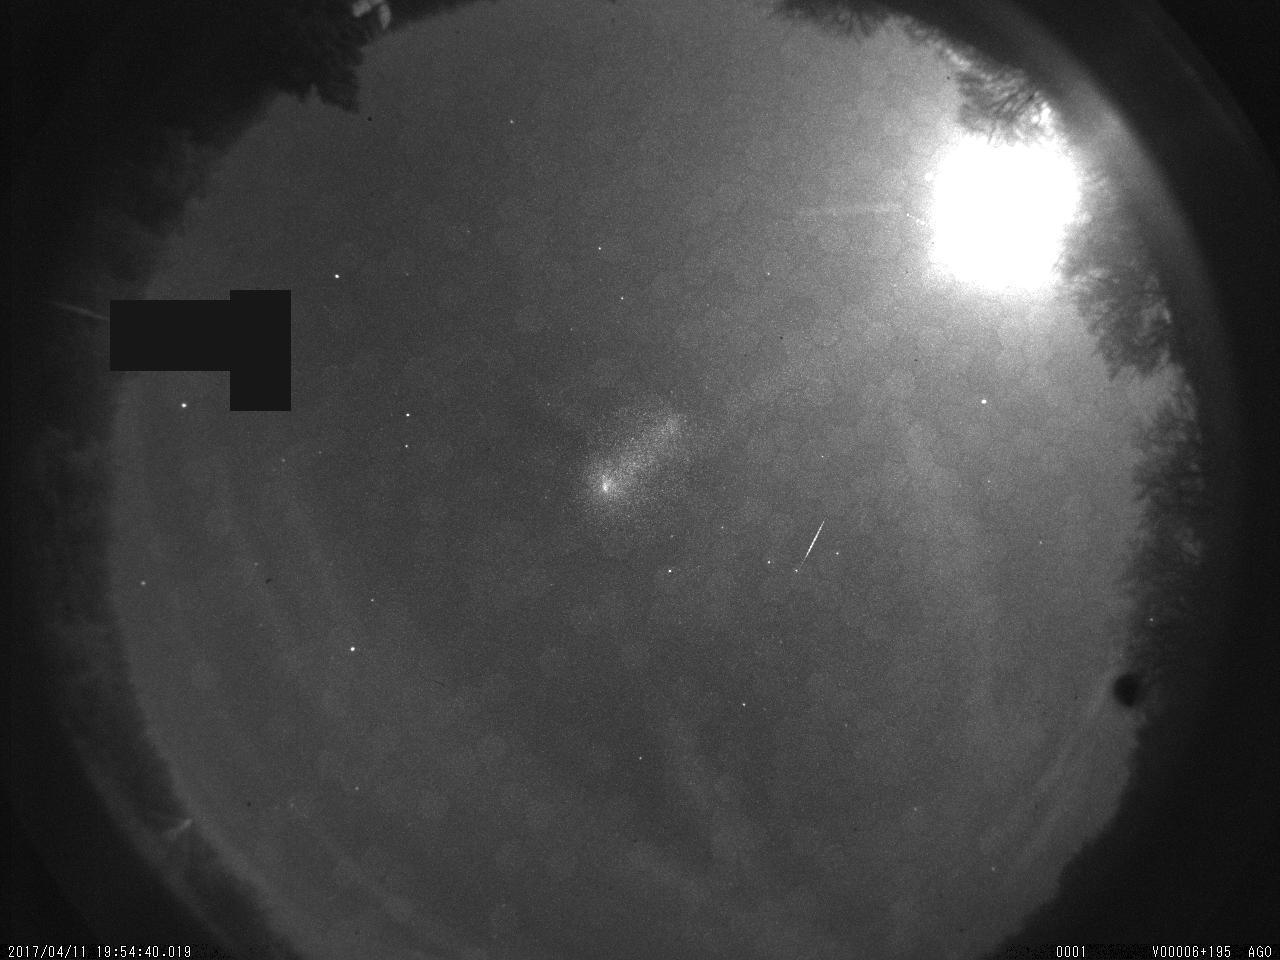Meteor: (795, 514, 831, 569)
